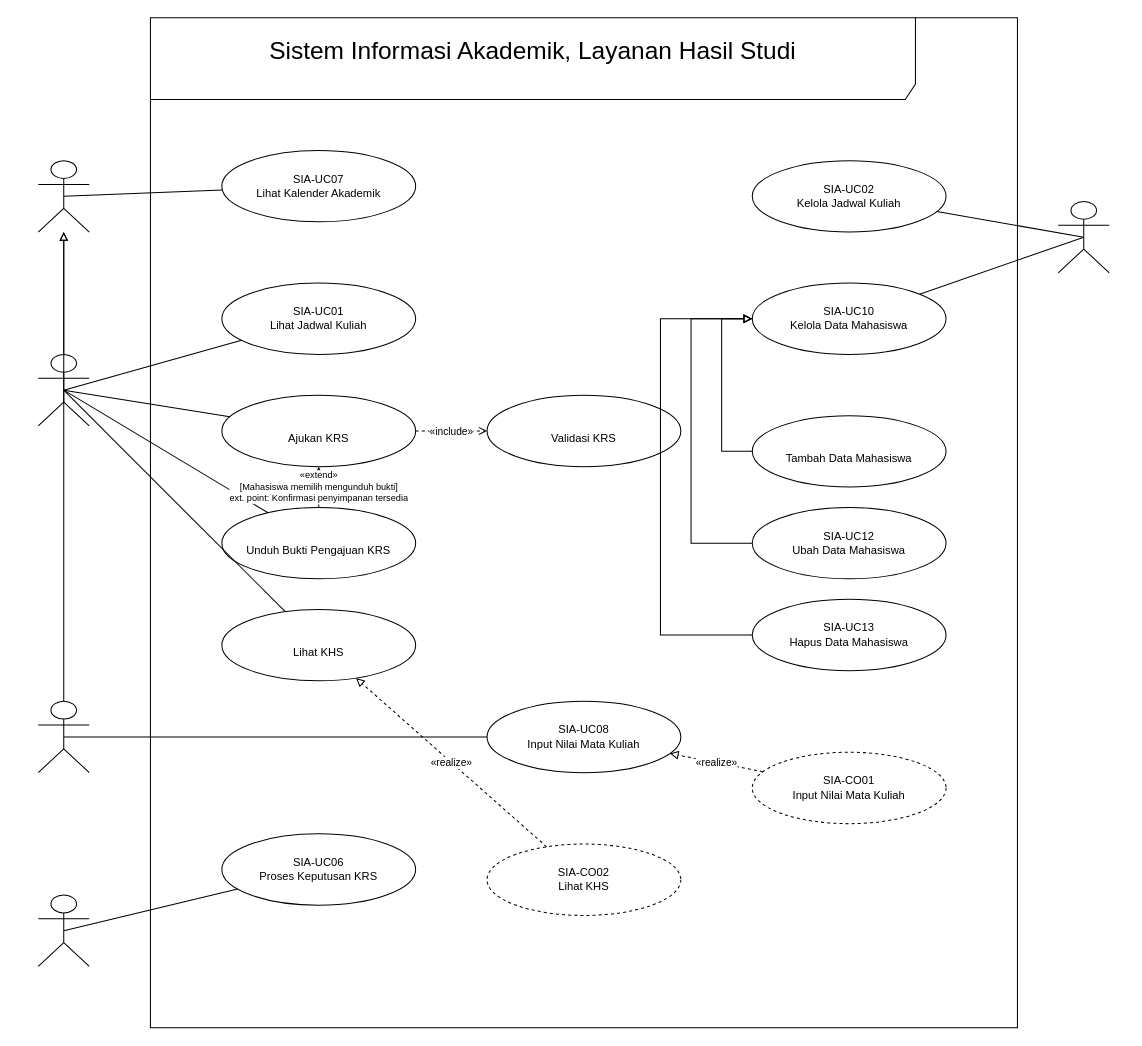
The diagram is 1142 pixels wide and 1046 high, and some of its shapes have lost their labels. Here are the shapes that lost their labels. From the top down, the centre of each, then its label:
point (63, 196): Civitas Akademika
point (1083, 236): Admin Akademik
point (63, 389): Mahasiswa
point (63, 736): Dosen
point (63, 930): Dosen Wali
